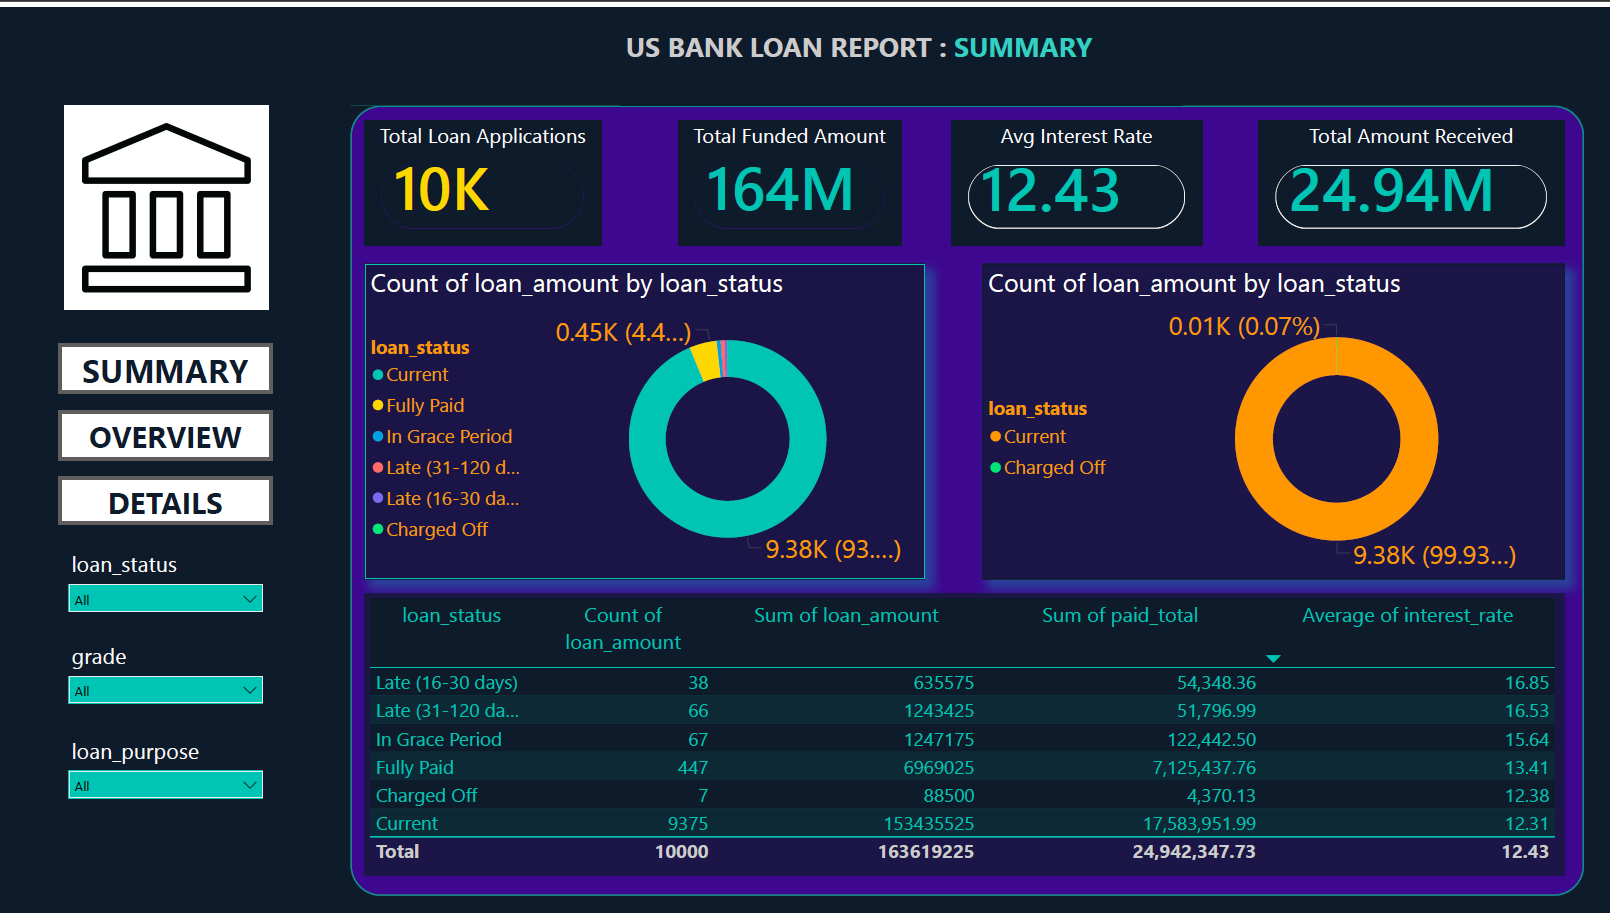

The page's visual inventory and layout, read from the dashboard file:
{"tool":"powerbi","page":{"name":"SUMMARY","canvas":[1600,900],"ordinal":0},"visuals":[{"type":"shape","box":[348,98,1224,784],"z":0},{"type":"actionButton","box":[58,334,212,50],"z":1000},{"type":"actionButton","box":[58,400,212,50],"z":2000},{"type":"actionButton","box":[58,466,212,48],"z":3000},{"type":"image","box":[36,98,258,202],"z":4000},{"type":"textbox","box":[616,16,558,82],"z":5000},{"type":"slicer","fields":{"Values":["loans_full_schema.loan_status"]},"box":[58.2,532.7,212.7,69.1],"z":6000},{"type":"slicer","fields":{"Values":["loans_full_schema.grade"]},"box":[58.2,623.6,212.7,69.1],"z":7000},{"type":"slicer","fields":{"Values":["loans_full_schema.loan_purpose"]},"box":[58.2,718.2,212.7,69.1],"z":8000},{"type":"cardVisual","title":"Total Loan Applications","fields":{"Data":["CountNonNull(loans_full_schema.loan_amount)"]},"box":[361.8,112.7,234.5,123.6],"z":9000},{"type":"cardVisual","title":"Total Funded Amount","fields":{"Data":["Sum(loans_full_schema.loan_amount)"]},"box":[672.7,112.7,221.8,123.6],"z":10000},{"type":"cardVisual","title":"Avg Interest Rate","fields":{"Data":["Avg(loans_full_schema.interest_rate)"]},"box":[943.6,112.7,249.1,123.6],"z":11000},{"type":"cardVisual","title":"Total Amount Received","fields":{"Data":["Sum(loans_full_schema.paid_total)"]},"box":[1249.1,112.7,303.6,123.6],"z":12000},{"type":"donutChart","fields":{"Y":["CountNonNull(loans_full_schema.loan_amount)"],"Category":["loans_full_schema.loan_status"]},"box":[361.8,254.5,556.4,312.7],"z":13000},{"type":"donutChart","fields":{"Y":["CountNonNull(loans_full_schema.loan_amount)"],"Category":["loans_full_schema.loan_status"]},"box":[974.5,254.5,578.2,312.7],"z":14000},{"type":"tableEx","fields":{"Values":["loans_full_schema.loan_status1","CountNonNull(loans_full_schema.loan_amount)","Sum(loans_full_schema.loan_amount)","Sum(loans_full_schema.paid_total)","Avg(loans_full_schema.interest_rate)"]},"box":[361.8,581.8,1190.9,280],"z":15000}]}

Visuals, with their boxes in screenshot pixels (x1, y1, x2, y2), scaled from the page's 1600x900 canvas onto the 1610x913 screenshot:
shape: box=[350, 99, 1582, 895]
actionButton: box=[58, 339, 272, 390]
actionButton: box=[58, 406, 272, 456]
actionButton: box=[58, 473, 272, 521]
image: box=[36, 99, 296, 304]
textbox: box=[620, 16, 1181, 99]
slicer - loans_full_schema.loan_status: box=[59, 540, 273, 610]
slicer - loans_full_schema.grade: box=[59, 633, 273, 703]
slicer - loans_full_schema.loan_purpose: box=[59, 729, 273, 799]
"Total Loan Applications" cardVisual: box=[364, 114, 600, 240]
"Total Funded Amount" cardVisual: box=[677, 114, 900, 240]
"Avg Interest Rate" cardVisual: box=[949, 114, 1200, 240]
"Total Amount Received" cardVisual: box=[1257, 114, 1562, 240]
donutChart - CountNonNull(loans_full_schema.loan_amount) x loans_full_schema.loan_status: box=[364, 258, 924, 575]
donutChart - CountNonNull(loans_full_schema.loan_amount) x loans_full_schema.loan_status: box=[981, 258, 1562, 575]
tableEx - loans_full_schema.loan_status1 x CountNonNull(loans_full_schema.loan_amount): box=[364, 590, 1562, 874]
